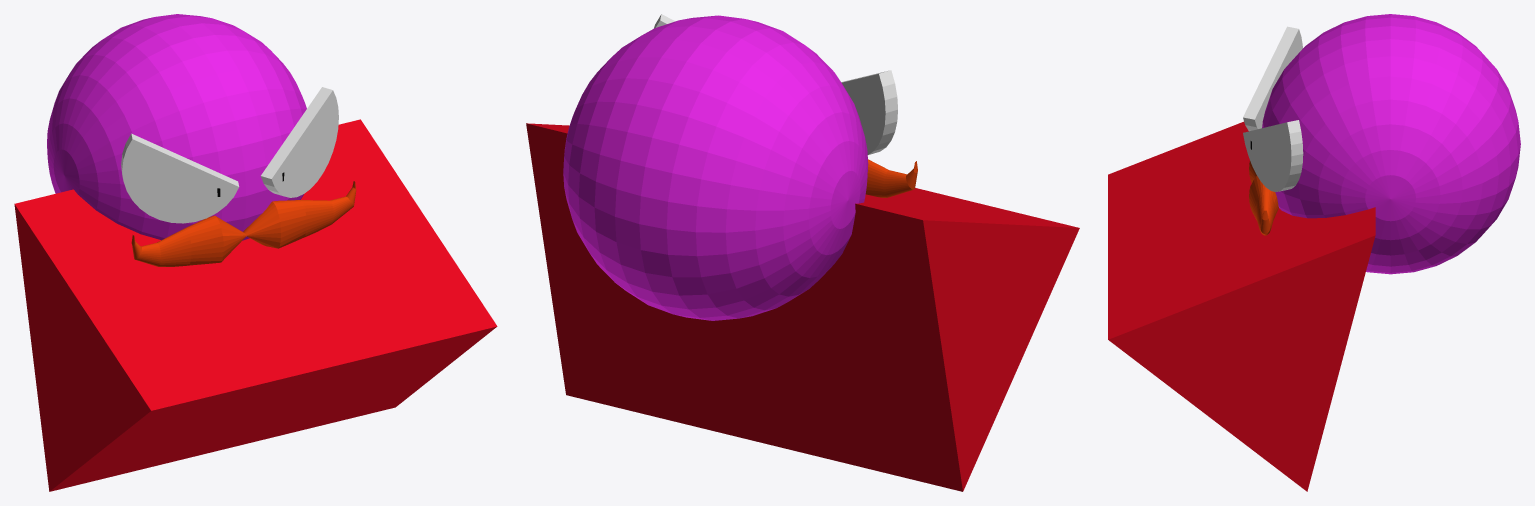
File: 092-bleh.fbx
The picture shows the model from 3 angles, left to right: view 1: azimuth 30°, elevation 25°; view 2: azimuth 150°, elevation 25°; view 3: azimuth 270°, elevation 25°; orthographic projection. The views are drawn at different scales.
Visible parts, largest first — view 1: Cube, Gastly, Eyes, Stache; view 2: Cube, Gastly, Eyes, Stache; view 3: Cube, Gastly, Eyes, Stache.
Part boxes in pixels (box(x1,y1,x2,y2)): Cube: box(14, 119, 497, 491); Gastly: box(47, 14, 306, 240); Eyes: box(121, 87, 338, 223); Stache: box(131, 181, 356, 266); Cube: box(526, 123, 1079, 491); Gastly: box(563, 15, 868, 320); Eyes: box(654, 14, 897, 154); Stache: box(865, 159, 917, 197); Cube: box(1108, 121, 1375, 491); Gastly: box(1262, 14, 1520, 274); Eyes: box(1243, 26, 1303, 191); Stache: box(1249, 161, 1278, 235).
Bounding box in the file's own units: 300 × 325 × 317.
